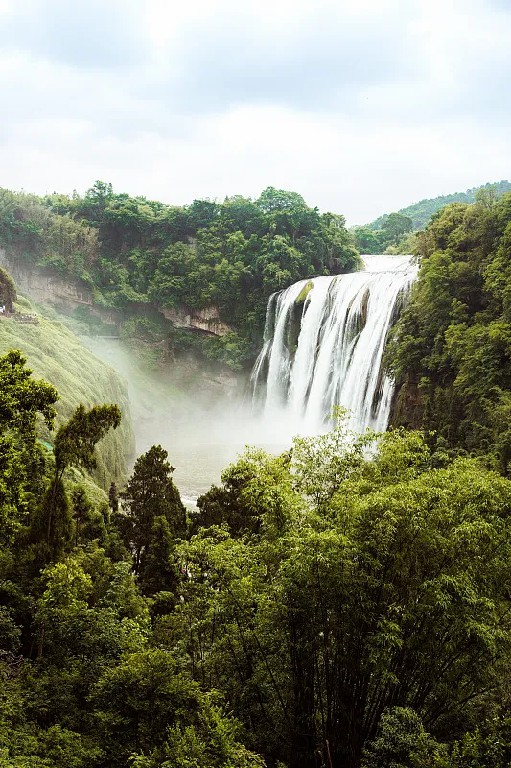Huangguoshu: (256, 255, 421, 434)
